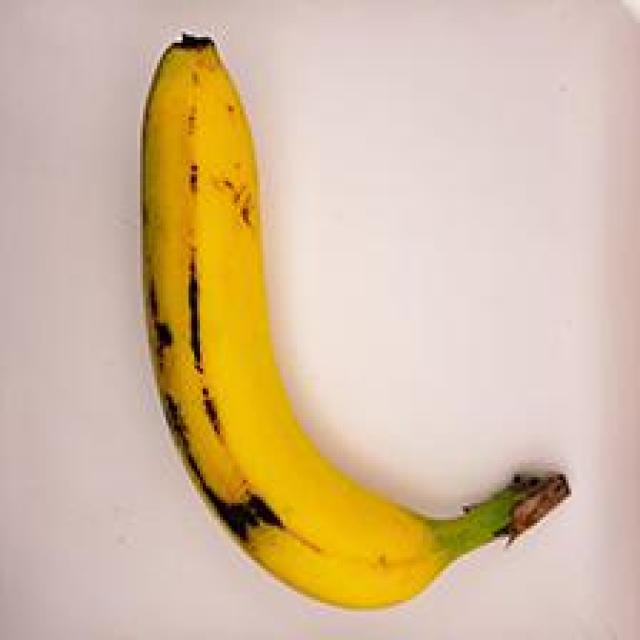ripe: (70, 0, 597, 640)
